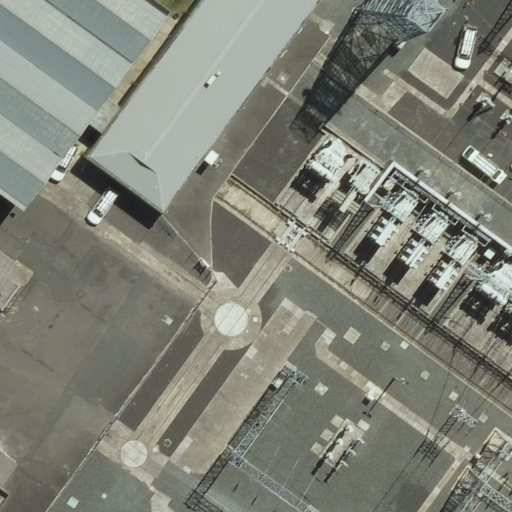TT: (350, 1, 449, 60)
